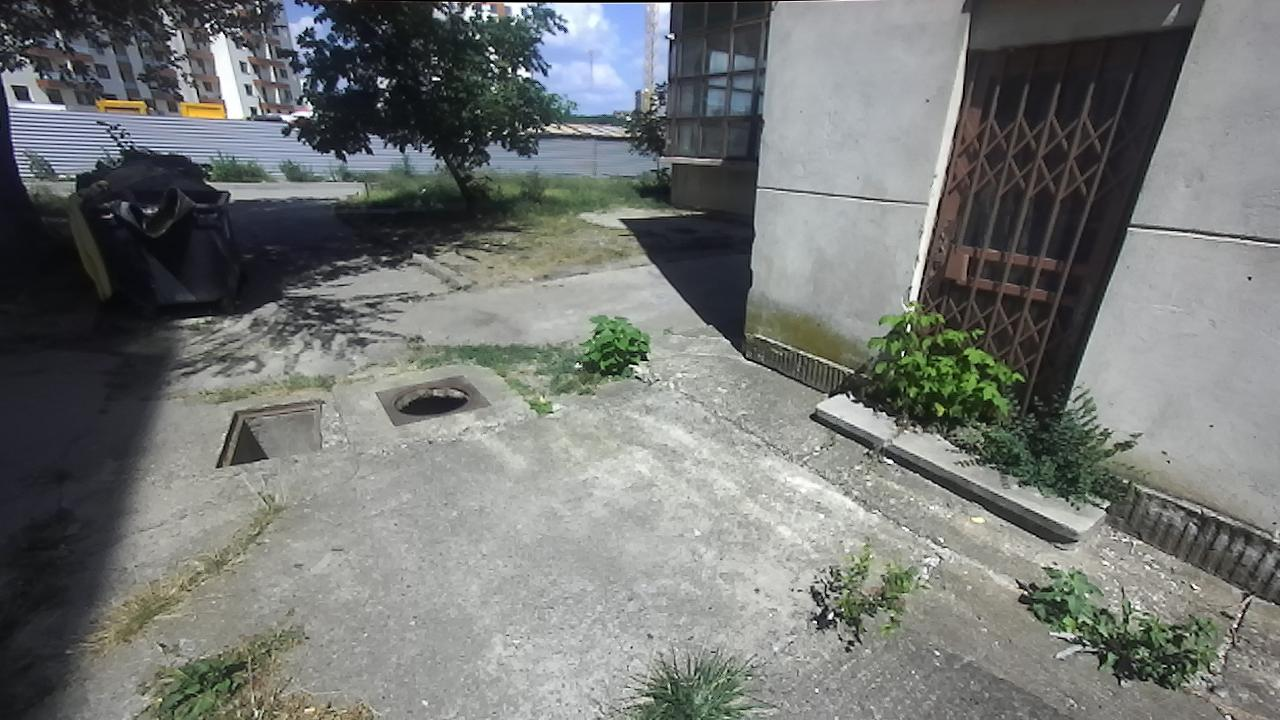drain: (210, 396, 330, 472), (386, 383, 479, 417)
